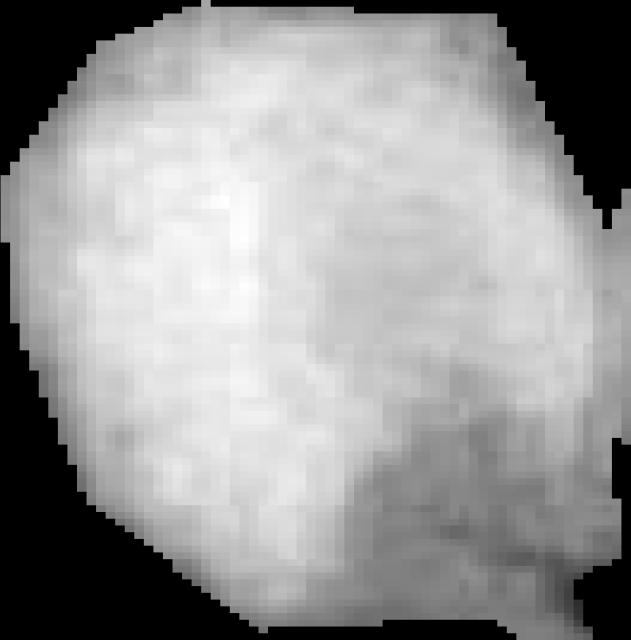tumor_good_chance: (1, 0, 631, 640)
